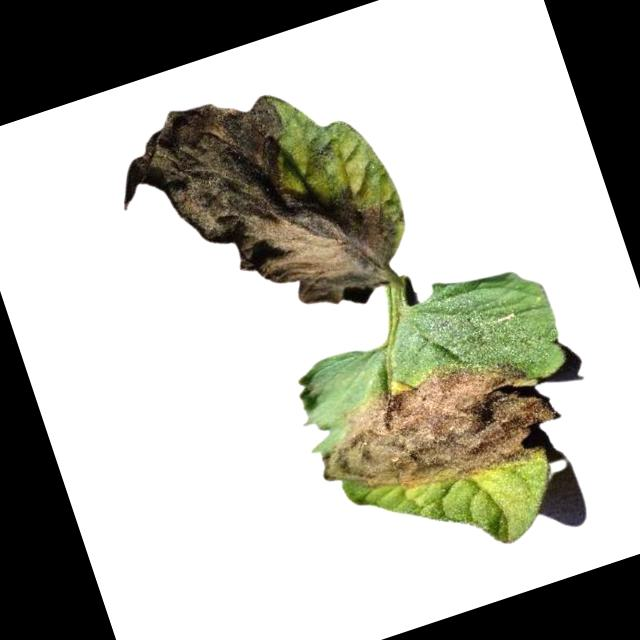Late_blight: (100, 58, 416, 365), (301, 331, 571, 525)
